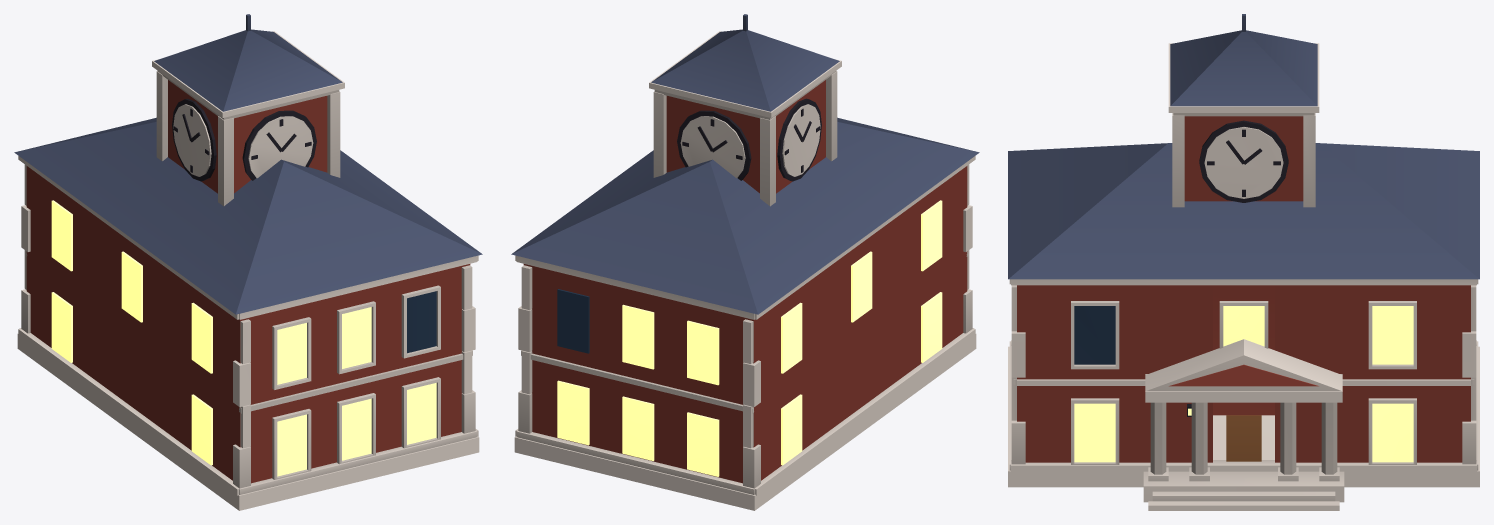
3 views of the same model, side by side, from view 1: azimuth 30°, elevation 25°; view 2: azimuth 150°, elevation 25°; view 3: azimuth 270°, elevation 25° (orthographic). The views are drawn at different scales.
Parts seen in each view (by area): view 1: body_pal_brick, roof_pal_denim, body_pal_picketWhite, body_emi_windowGlow, body_pal_uiDark, body_pal_blueTrim; view 2: body_pal_brick, roof_pal_denim, body_pal_picketWhite, body_emi_windowGlow, body_pal_uiDark, body_pal_blueTrim; view 3: roof_pal_denim, body_pal_brick, body_pal_picketWhite, body_emi_windowGlow, body_pal_blueTrim, body_pal_uiDark, door_front_pal_woodWarm.
Boxes of the visible parts, box(x1,y1,x2,y2) form: body_pal_brick: box(26, 80, 470, 483); roof_pal_denim: box(14, 14, 482, 314); body_pal_picketWhite: box(17, 31, 479, 510); body_emi_windowGlow: box(51, 200, 436, 476); body_pal_uiDark: box(172, 98, 316, 181); body_pal_blueTrim: box(407, 291, 436, 353); body_pal_brick: box(523, 80, 967, 483); roof_pal_denim: box(511, 14, 979, 314); body_pal_picketWhite: box(514, 31, 976, 510); body_emi_windowGlow: box(557, 200, 942, 476); body_pal_uiDark: box(677, 98, 821, 181); body_pal_blueTrim: box(557, 289, 589, 353); roof_pal_denim: box(1008, 14, 1479, 279); body_pal_brick: box(1017, 116, 1470, 462); body_pal_picketWhite: box(1008, 43, 1479, 510); body_emi_windowGlow: box(1074, 306, 1413, 462); body_pal_blueTrim: box(1074, 306, 1115, 364); body_pal_uiDark: box(1187, 120, 1288, 416); door_front_pal_woodWarm: box(1226, 415, 1261, 461).
Size of the model in its own units: 12.05 by 15.35 by 16.
